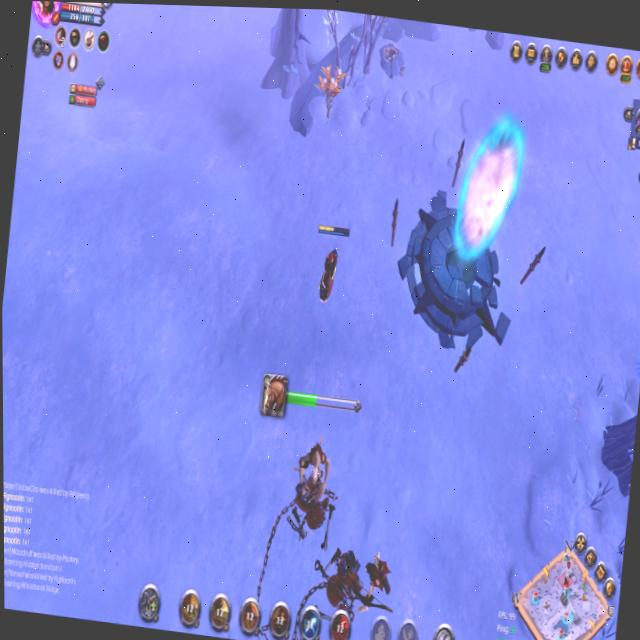hide: (305, 57, 353, 128)
ore: (281, 419, 341, 520), (349, 549, 399, 626)
red: (305, 209, 356, 321)
